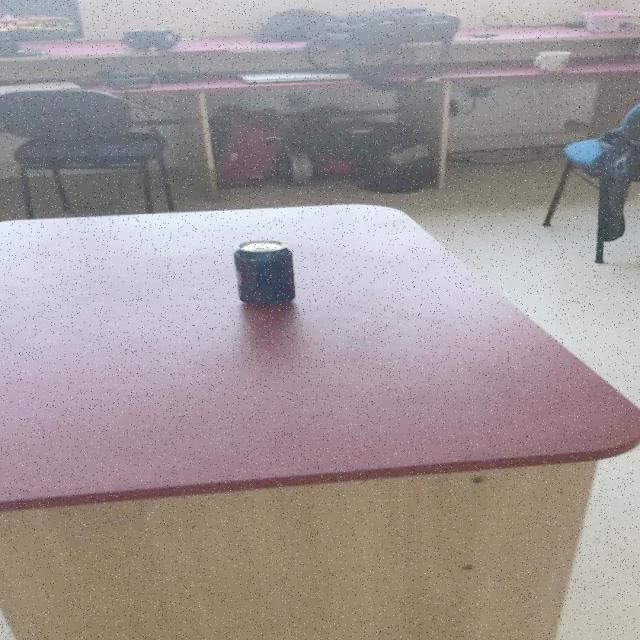Tonic: (234, 238, 298, 304)
